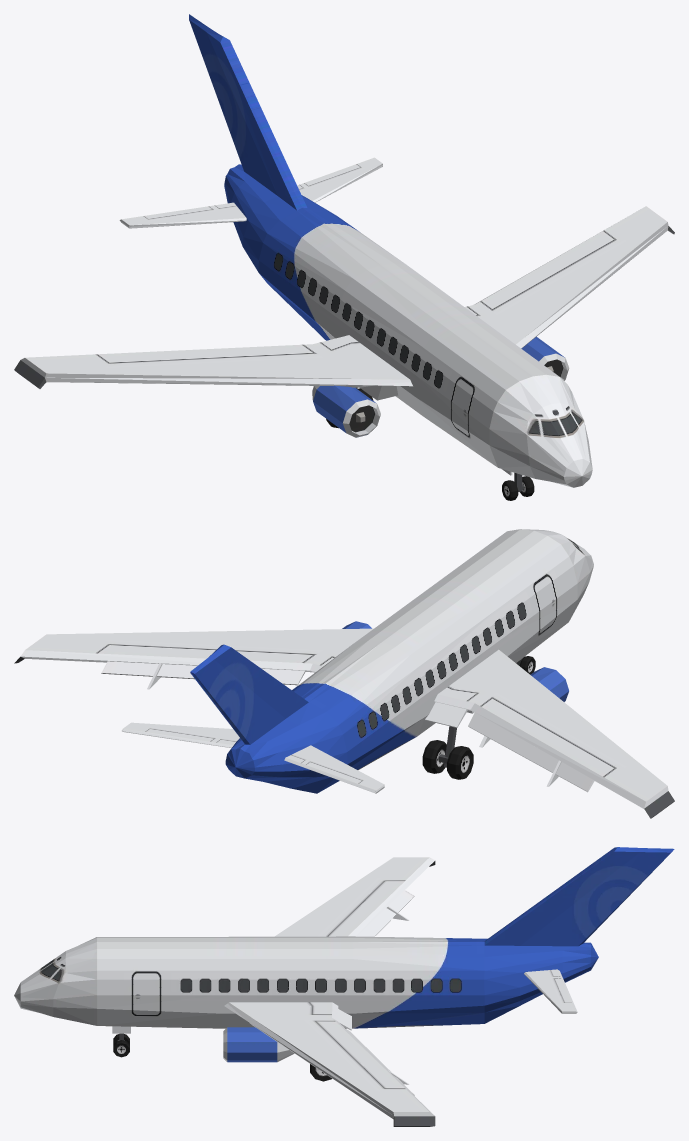
The model's file is plane-prop.glb.
The picture shows the model from 3 angles, top to bottom: view 1: azimuth 30°, elevation 25°; view 2: azimuth 150°, elevation 25°; view 3: azimuth 270°, elevation 25°; orthographic projection. The views are drawn at different scales.
Parts seen in each view (by area): view 1: Airplane1; view 2: Airplane1; view 3: Airplane1.
Boxes of the visible parts, x1=… form: Airplane1: x1=14, y1=14, x2=674, y2=500; Airplane1: x1=14, y1=529, x2=674, y2=818; Airplane1: x1=14, y1=847, x2=674, y2=1126.
Bounding box in the file's own units: 1567 × 581 × 1676.
1 material, 1 textured.
